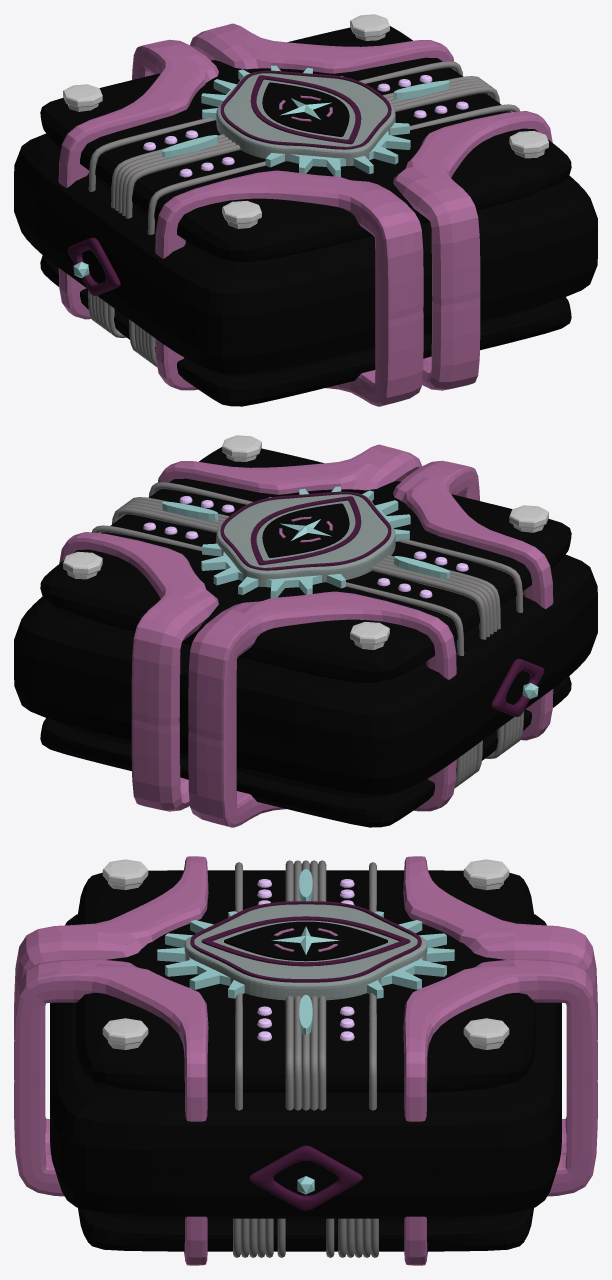
The model's file is st2_moving platform.fbx.
3 renders of one model, top to bottom at view 1: azimuth 30°, elevation 25°; view 2: azimuth 150°, elevation 25°; view 3: azimuth 270°, elevation 25°, orthographic. The views are drawn at different scales.
Visible parts, largest first — view 1: 1_moving_platform_main, 1_moving_platform_etc_art6, 1_moving_platform_pipe1, 1_moving_platform_main_art1, 1_moving_platform_etc_art1, 1_moving_platform_gear1, 1_moving_platform_main_art4, 1_moving_platform_pipe2, 1_moving_platform_main_art2, 1_moving_platform_main_art3, 1_moving_platform_etc_art2, 1_moving_platform_etc_art4 (+1 smaller); view 2: 1_moving_platform_main, 1_moving_platform_etc_art6, 1_moving_platform_pipe1, 1_moving_platform_main_art1, 1_moving_platform_etc_art1, 1_moving_platform_gear1, 1_moving_platform_main_art4, 1_moving_platform_pipe2, 1_moving_platform_main_art2, 1_moving_platform_main_art3, 1_moving_platform_etc_art2, 1_moving_platform_etc_art4 (+1 smaller); view 3: 1_moving_platform_main, 1_moving_platform_etc_art6, 1_moving_platform_main_art1, 1_moving_platform_pipe1, 1_moving_platform_etc_art1, 1_moving_platform_gear1, 1_moving_platform_main_art4, 1_moving_platform_pipe2, 1_moving_platform_etc_art4, 1_moving_platform_main_art3, 1_moving_platform_main_art2, 1_moving_platform_etc_art3 (+1 smaller).
Boxes of the visible parts, left/top/right/bottom form: 1_moving_platform_main: left=14, top=26, right=597, bottom=406; 1_moving_platform_etc_art6: left=58, top=23, right=552, bottom=406; 1_moving_platform_pipe1: left=88, top=61, right=519, bottom=234; 1_moving_platform_main_art1: left=216, top=72, right=395, bottom=165; 1_moving_platform_etc_art1: left=63, top=14, right=548, bottom=228; 1_moving_platform_gear1: left=201, top=65, right=410, bottom=176; 1_moving_platform_main_art4: left=262, top=82, right=349, bottom=136; 1_moving_platform_pipe2: left=88, top=290, right=157, bottom=366; 1_moving_platform_main_art2: left=220, top=70, right=391, bottom=149; 1_moving_platform_main_art3: left=250, top=75, right=361, bottom=144; 1_moving_platform_etc_art2: left=161, top=80, right=450, bottom=158; 1_moving_platform_etc_art4: left=67, top=237, right=120, bottom=295; 1_moving_platform_main: left=14, top=447, right=597, bottom=827; 1_moving_platform_etc_art6: left=59, top=444, right=553, bottom=827; 1_moving_platform_pipe1: left=92, top=482, right=523, bottom=655; 1_moving_platform_main_art1: left=216, top=493, right=395, bottom=586; 1_moving_platform_etc_art1: left=63, top=435, right=548, bottom=649; 1_moving_platform_gear1: left=201, top=486, right=410, bottom=597; 1_moving_platform_main_art4: left=262, top=503, right=349, bottom=557; 1_moving_platform_pipe2: left=454, top=711, right=523, bottom=787; 1_moving_platform_main_art2: left=220, top=491, right=391, bottom=570; 1_moving_platform_main_art3: left=250, top=496, right=361, bottom=565; 1_moving_platform_etc_art2: left=161, top=501, right=450, bottom=579; 1_moving_platform_etc_art4: left=491, top=658, right=544, bottom=716; 1_moving_platform_main: left=50, top=870, right=561, bottom=1251; 1_moving_platform_etc_art6: left=14, top=856, right=597, bottom=1265; 1_moving_platform_main_art1: left=184, top=904, right=427, bottom=1000; 1_moving_platform_pipe1: left=235, top=860, right=376, bottom=1110; 1_moving_platform_etc_art1: left=102, top=859, right=509, bottom=1049; 1_moving_platform_gear1: left=157, top=911, right=454, bottom=998; 1_moving_platform_main_art4: left=224, top=921, right=387, bottom=961; 1_moving_platform_pipe2: left=233, top=1218, right=378, bottom=1257; 1_moving_platform_etc_art4: left=249, top=1145, right=362, bottom=1210; 1_moving_platform_main_art3: left=201, top=916, right=410, bottom=966; 1_moving_platform_main_art2: left=190, top=901, right=421, bottom=982; 1_moving_platform_etc_art3: left=257, top=879, right=354, bottom=1041.
Bounding box in the file's own units: 299 × 129 × 288.
